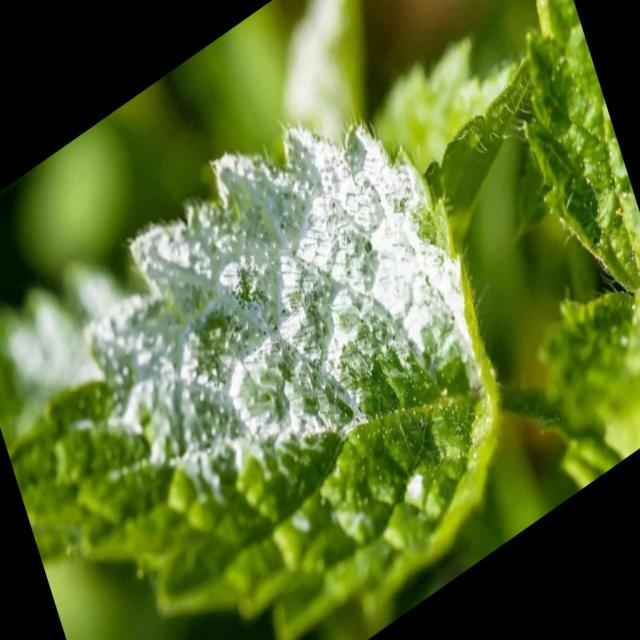Powdery Mildew: (84, 117, 482, 505)
